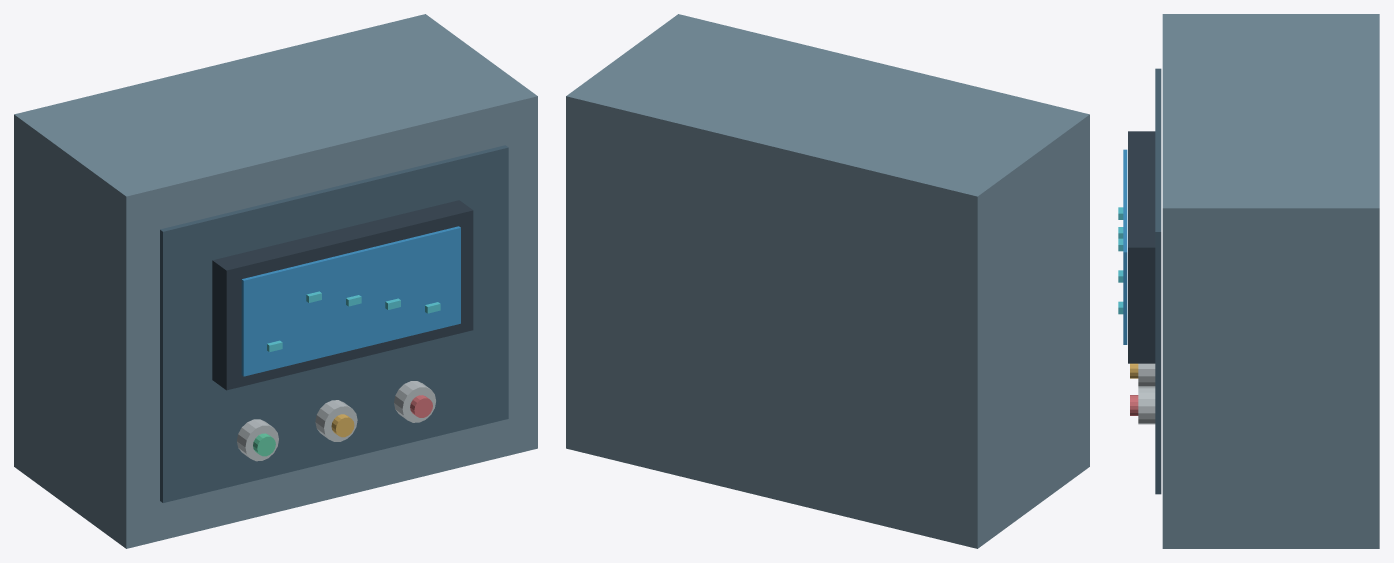
Rendered from 03_L69_CompressorMotorDrive.glb.
The picture shows the model from 3 angles, left to right: view 1: azimuth 30°, elevation 25°; view 2: azimuth 150°, elevation 25°; view 3: azimuth 270°, elevation 25°; orthographic projection. The views are drawn at different scales.
Parts seen in each view (by area): view 1: CompressorMotorDrive_Part_000, CompressorMotorDrive_Part_001, CompressorMotorDrive_Part_003, CompressorMotorDrive_Part_002, CompressorMotorDrive_Part_009, CompressorMotorDrive_Part_013, CompressorMotorDrive_Part_011; view 2: CompressorMotorDrive_Part_000; view 3: CompressorMotorDrive_Part_000, CompressorMotorDrive_Part_002, CompressorMotorDrive_Part_001, CompressorMotorDrive_Part_003, CompressorMotorDrive_Part_013, CompressorMotorDrive_Part_011.
Part boxes in pixels (x1,y1,x2,y2): CompressorMotorDrive_Part_000: [14, 14, 537, 548]; CompressorMotorDrive_Part_001: [160, 145, 508, 502]; CompressorMotorDrive_Part_003: [241, 226, 460, 376]; CompressorMotorDrive_Part_002: [212, 200, 473, 390]; CompressorMotorDrive_Part_009: [237, 419, 278, 461]; CompressorMotorDrive_Part_013: [394, 381, 435, 422]; CompressorMotorDrive_Part_011: [315, 400, 357, 441]; CompressorMotorDrive_Part_000: [566, 14, 1089, 548]; CompressorMotorDrive_Part_000: [1162, 14, 1379, 548]; CompressorMotorDrive_Part_002: [1128, 131, 1155, 363]; CompressorMotorDrive_Part_001: [1155, 68, 1161, 494]; CompressorMotorDrive_Part_003: [1123, 149, 1127, 344]; CompressorMotorDrive_Part_013: [1138, 386, 1155, 424]; CompressorMotorDrive_Part_011: [1138, 363, 1155, 386].
Size of the model in its own units: 1.1 by 0.9 by 0.626.
